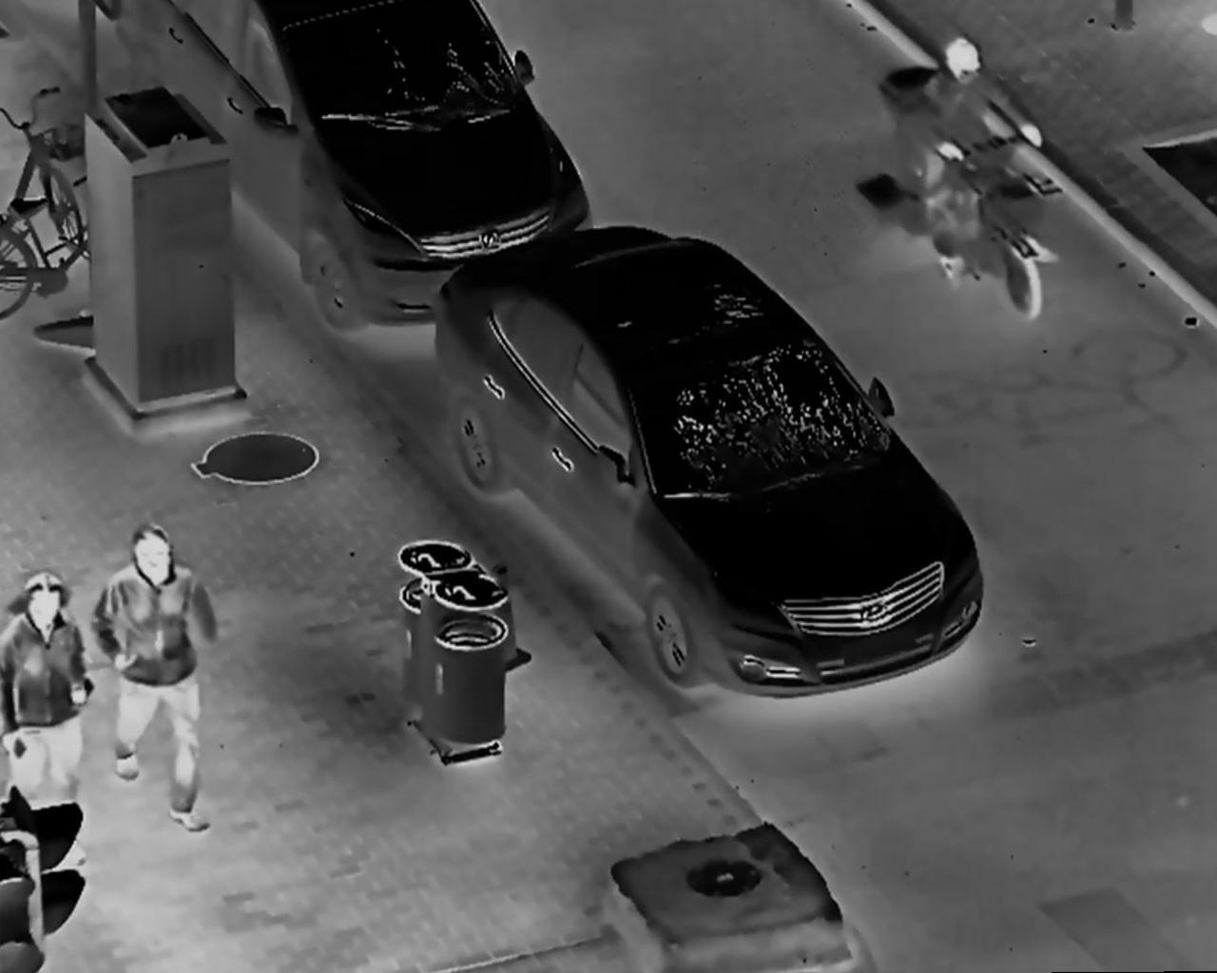person: (91, 522, 219, 836), (914, 33, 1042, 284)
